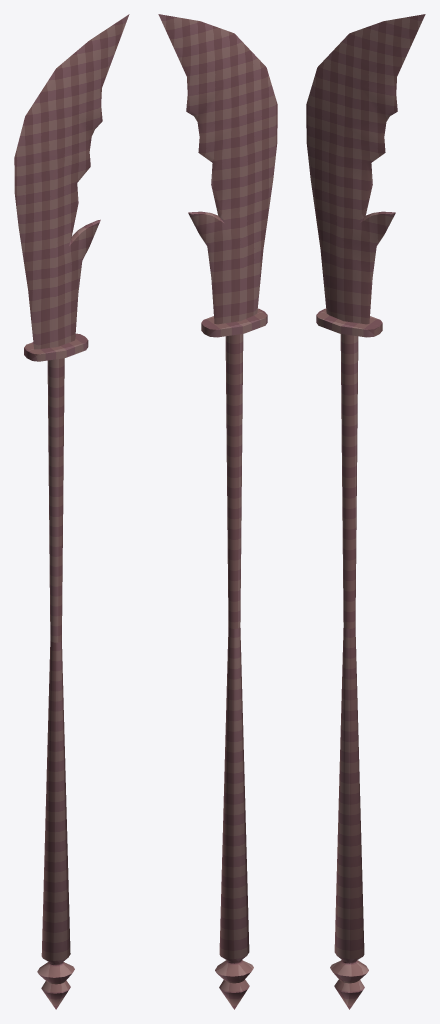
File: 318_WEapon_MD.fbx
3 views of the same model, side by side, from view 1: azimuth 30°, elevation 25°; view 2: azimuth 210°, elevation 25°; view 3: azimuth 330°, elevation 25° (orthographic). The views are drawn at different scales.
Parts seen in each view (by area): view 1: Box002; view 2: Box002; view 3: Box002.
Part boxes in pixels (<box>): Box002: <box>14,14,129,1009</box>; Box002: <box>158,14,277,1009</box>; Box002: <box>306,14,425,1009</box>.
Size of the model in its own units: 13.72 by 111 by 3.88.
Materials: 1 (1 with a texture image).
